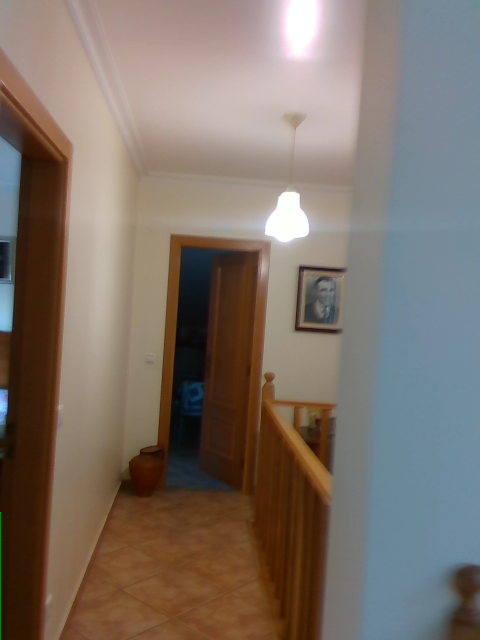semi: (156, 234, 269, 491)
